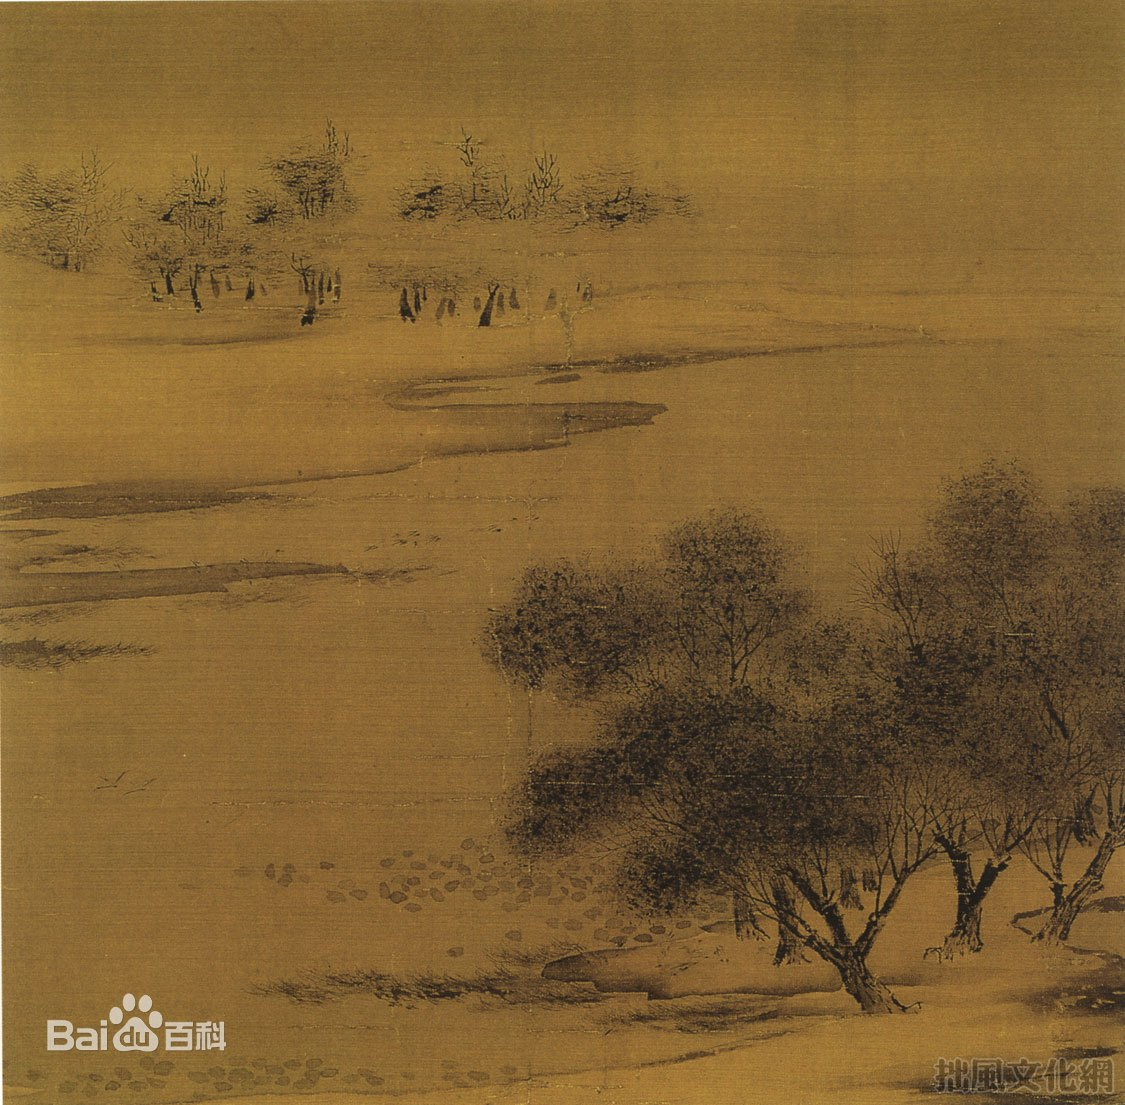river: (17, 395, 495, 977), (475, 354, 1125, 524)
tree: (531, 561, 1117, 988), (53, 180, 621, 322)
